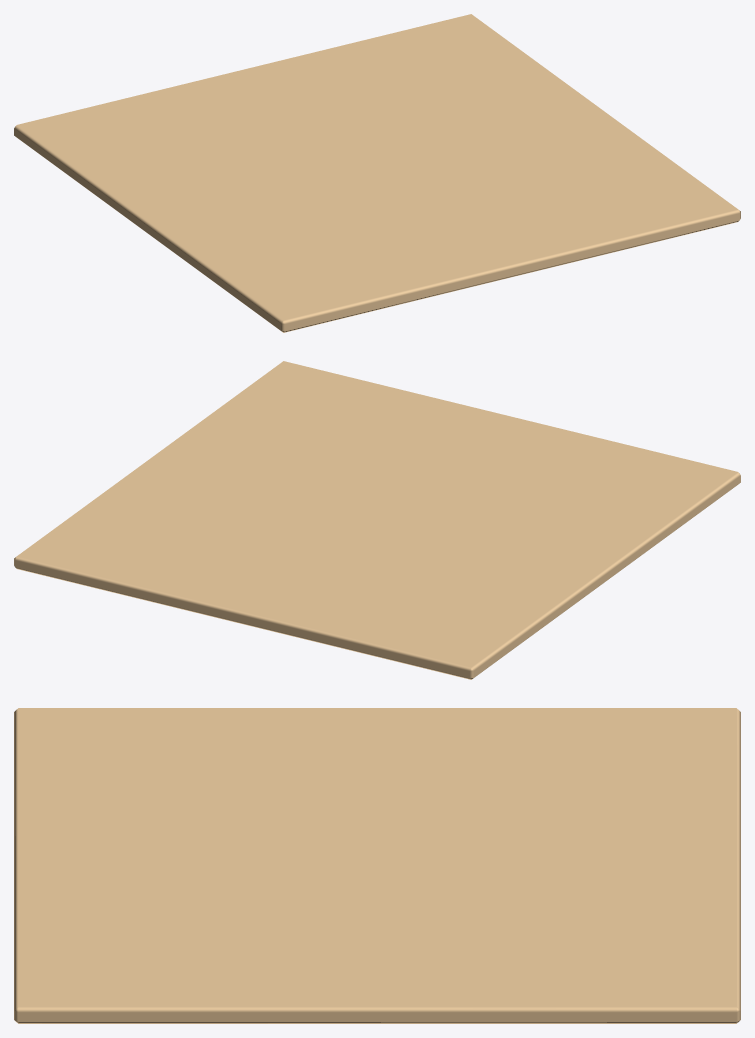
File: raum_fliese_weg.glb
3 renders of one model, top to bottom at view 1: azimuth 30°, elevation 25°; view 2: azimuth 150°, elevation 25°; view 3: azimuth 270°, elevation 25°, orthographic. The views are drawn at different scales.
Parts seen in each view (by area): view 1: raum_fliese_weg; view 2: raum_fliese_weg; view 3: raum_fliese_weg.
Boxes of the visible parts, x1,y1,x2,y2 form: raum_fliese_weg: [14, 14, 740, 332]; raum_fliese_weg: [14, 361, 740, 679]; raum_fliese_weg: [14, 708, 740, 1023].
Bounding box in the file's own units: 0.98 × 0.026 × 0.996.
